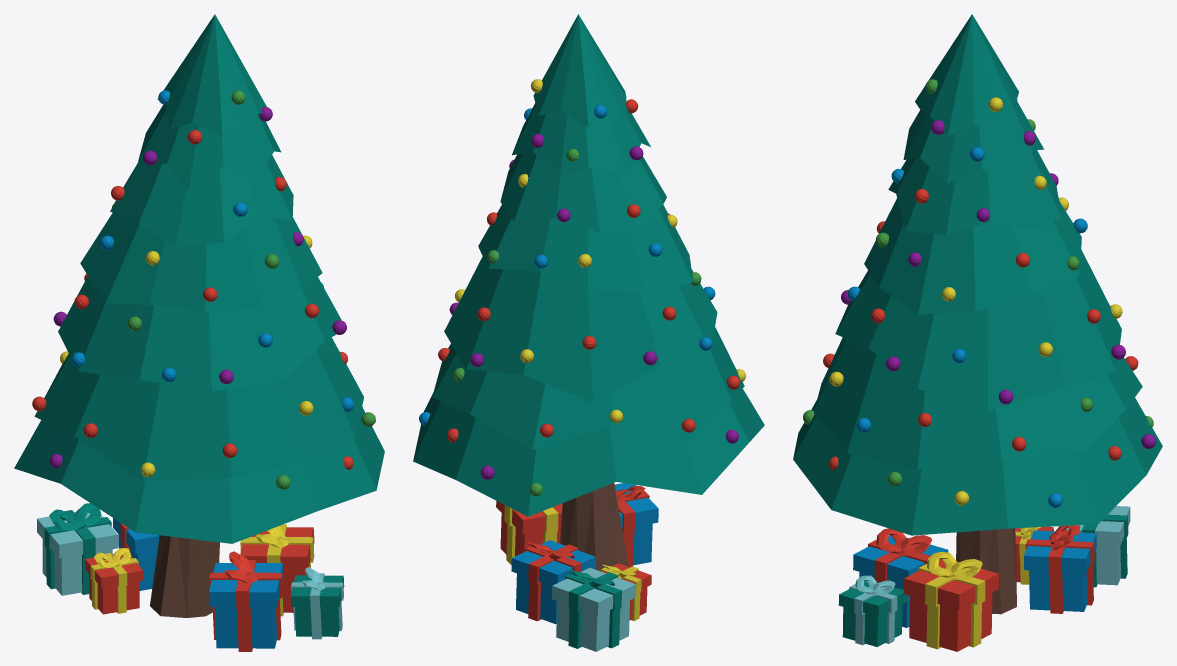
The picture shows the model from 3 angles, left to right: view 1: azimuth 30°, elevation 25°; view 2: azimuth 150°, elevation 25°; view 3: azimuth 270°, elevation 25°; orthographic projection. The views are drawn at different scales.
Visible parts, largest first — view 1: node_MeshObject1877526528-PolyPaper11, node_MeshObject-129124352-PolyPaper12; view 2: node_MeshObject1877526528-PolyPaper11, node_MeshObject-129124352-PolyPaper12; view 3: node_MeshObject1877526528-PolyPaper11, node_MeshObject-129124352-PolyPaper12.
Part boxes in pixels (x1,y1,x2,y2): node_MeshObject1877526528-PolyPaper11: (14, 14, 384, 651); node_MeshObject-129124352-PolyPaper12: (49, 90, 375, 489); node_MeshObject1877526528-PolyPaper11: (413, 14, 764, 651); node_MeshObject-129124352-PolyPaper12: (419, 79, 738, 496); node_MeshObject1877526528-PolyPaper11: (793, 14, 1162, 651); node_MeshObject-129124352-PolyPaper12: (803, 79, 1155, 507).
Bounding box in the file's own units: 0.4829 × 0.8847 × 0.4926.
